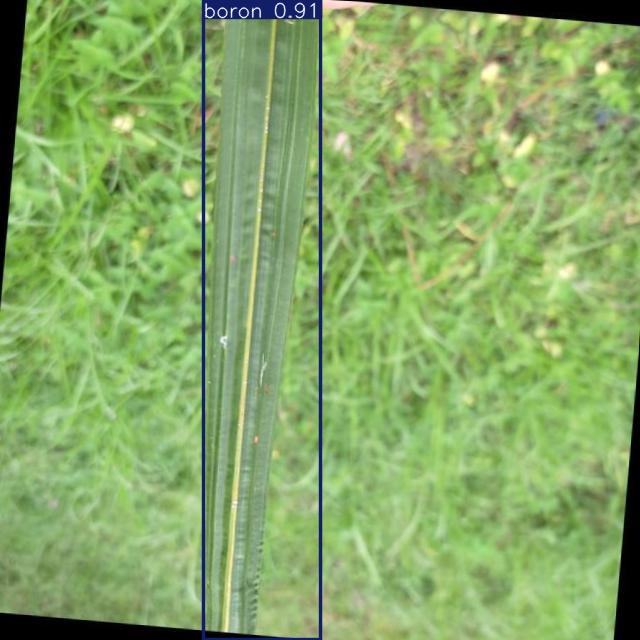nitrogen: (204, 0, 320, 639)
